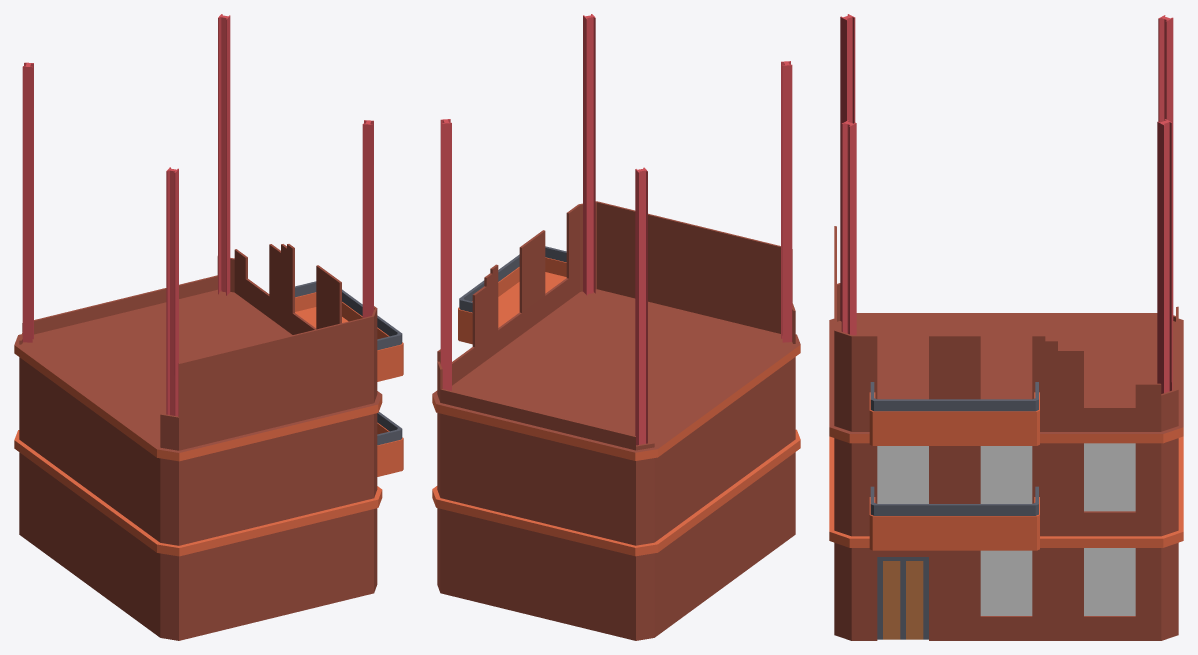
3 views of the same model, side by side, from view 1: azimuth 30°, elevation 25°; view 2: azimuth 150°, elevation 25°; view 3: azimuth 270°, elevation 25° (orthographic). The views are drawn at different scales.
Visible parts, largest first — view 1: Predio 8 A; view 2: Predio 8 A; view 3: Predio 8 A.
Part boxes in pixels (x1,y1,x2,y2): Predio 8 A: [14, 14, 403, 640]; Predio 8 A: [432, 14, 800, 640]; Predio 8 A: [829, 14, 1183, 640].
Size of the model in its own units: 5694 by 9868 by 6180.
